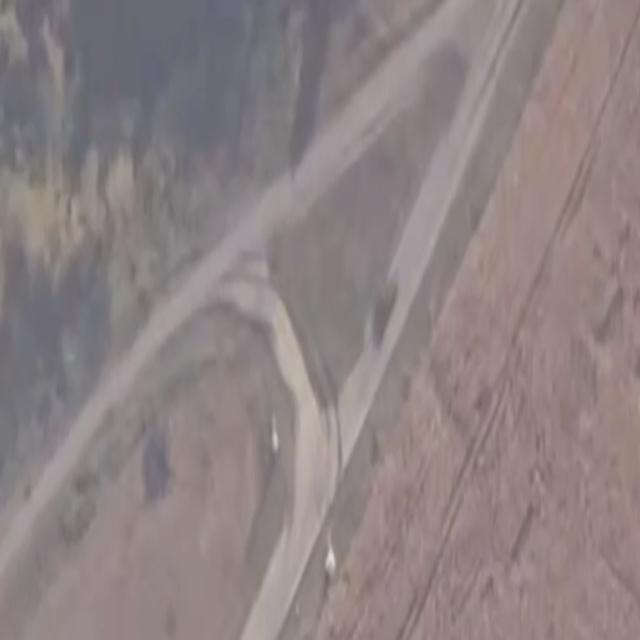vehicle: (376, 270, 398, 340)
